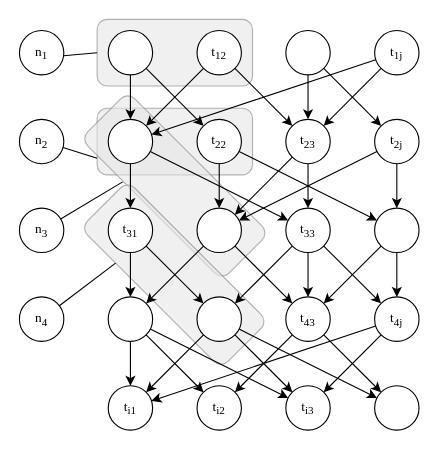
Image size: 438x450. Some labels were removed from this diagram. Here are the shapes that lost their labels. From the top down, the box of each, then its label:
(107, 29, 153, 75): t 11
(285, 29, 330, 75): t 13
(107, 118, 153, 164): t 21
(196, 207, 241, 253): t 32
(374, 207, 419, 253): t 3j
(107, 296, 153, 341): t 41
(196, 296, 241, 341): t 42
(374, 385, 419, 430): t ij
